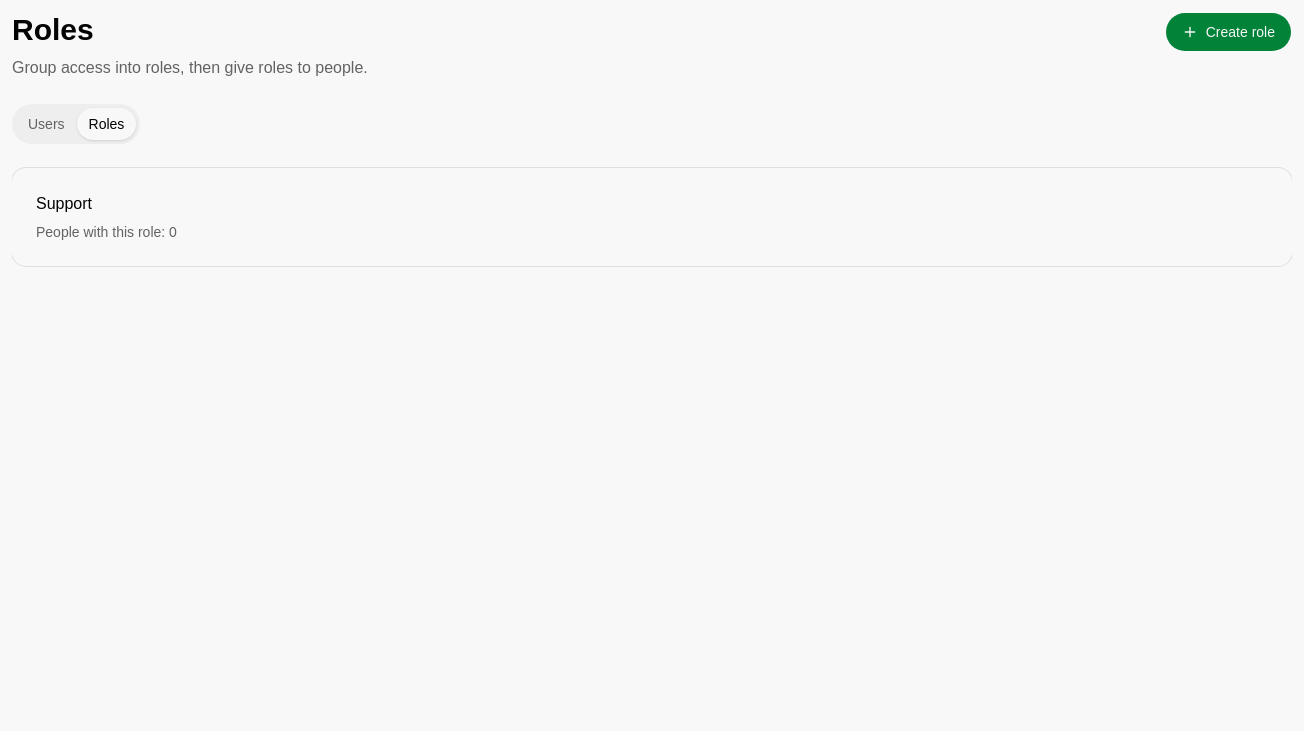
Test case: role management › opens a role by clicking its row
This screenshot has width=1304, height=731.
Click the link named "Support".
click(652, 217)  # box x1=12 y1=168 x2=1292 y2=266
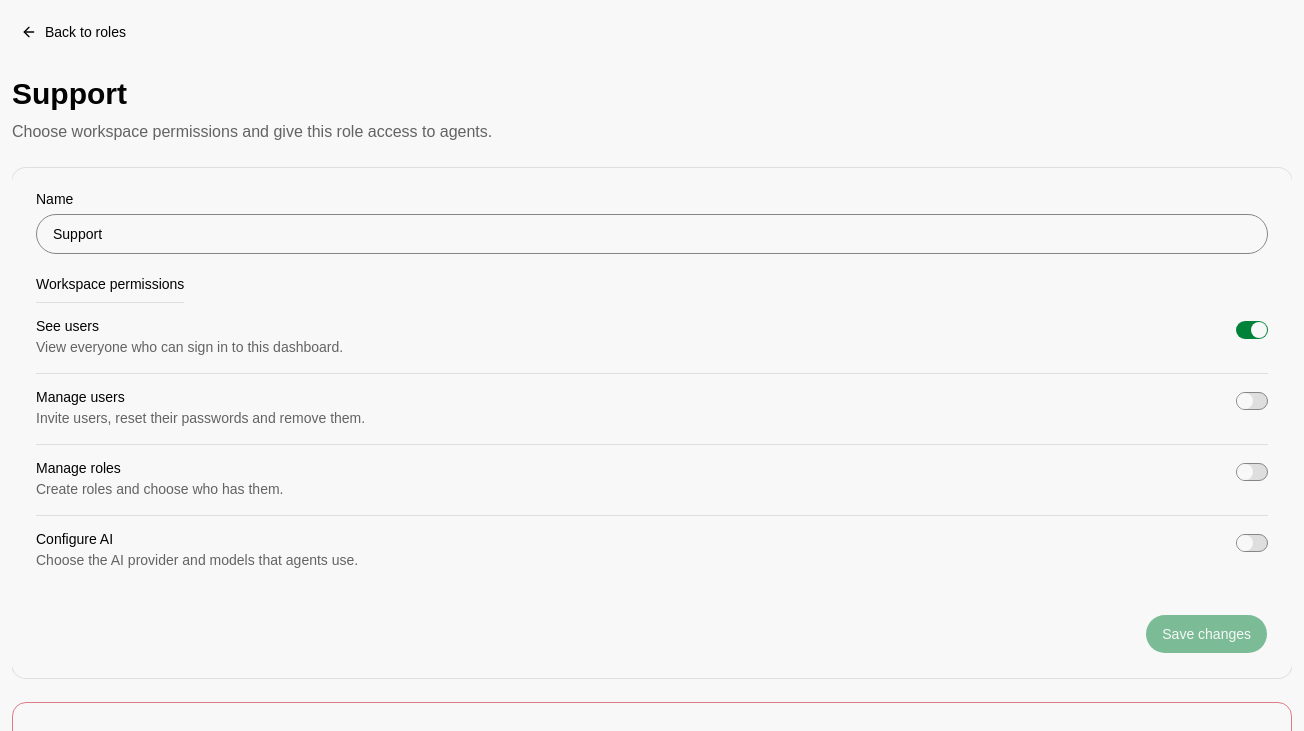
Now the field labelled "Name" holds "Support", box x1=36 y1=214 x2=1268 y2=254
